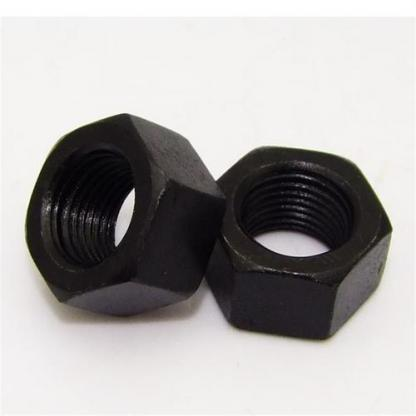FOD: (22, 113, 227, 319), (196, 146, 392, 342)
